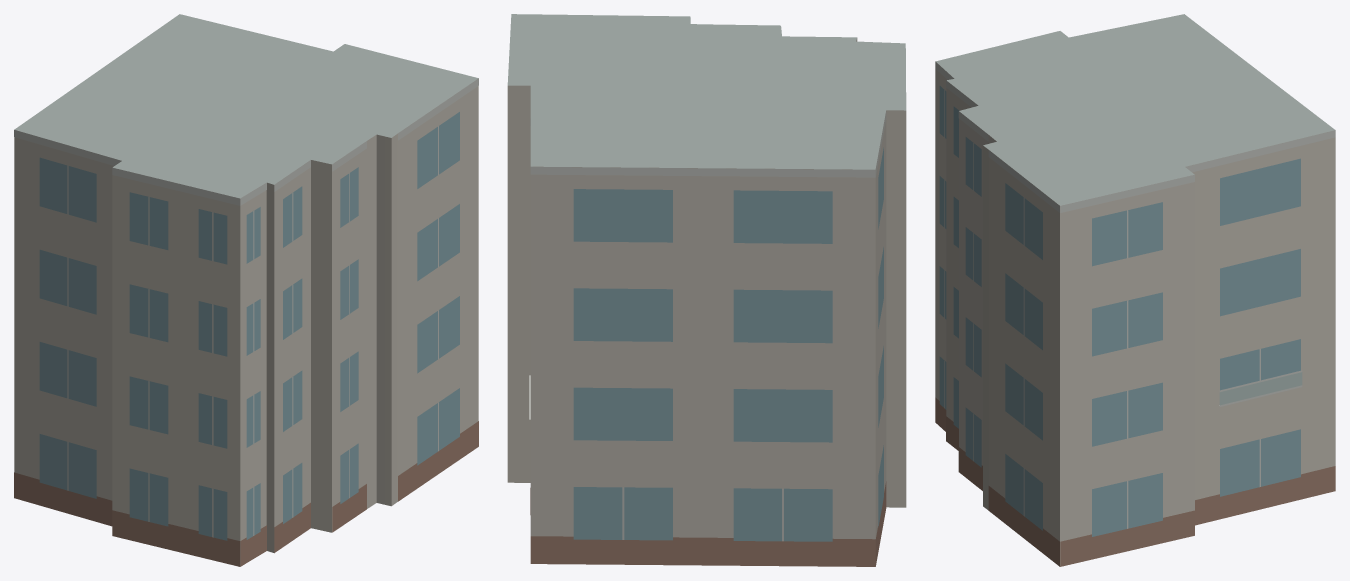
The model's file is survey-upis-32511988.glb.
The picture shows the model from 3 angles, left to right: view 1: azimuth 30°, elevation 25°; view 2: azimuth 150°, elevation 25°; view 3: azimuth 270°, elevation 25°; orthographic projection. The views are drawn at different scales.
Visible parts, largest first — view 1: survey-upis-32511988.tmp; view 2: survey-upis-32511988.tmp; view 3: survey-upis-32511988.tmp.
Part boxes in pixels (bbox=[...]): survey-upis-32511988.tmp: bbox=[14, 14, 478, 566]; survey-upis-32511988.tmp: bbox=[507, 14, 906, 566]; survey-upis-32511988.tmp: bbox=[935, 14, 1335, 566].
Size of the model in its own units: 13.8 by 12.1 by 12.17.
